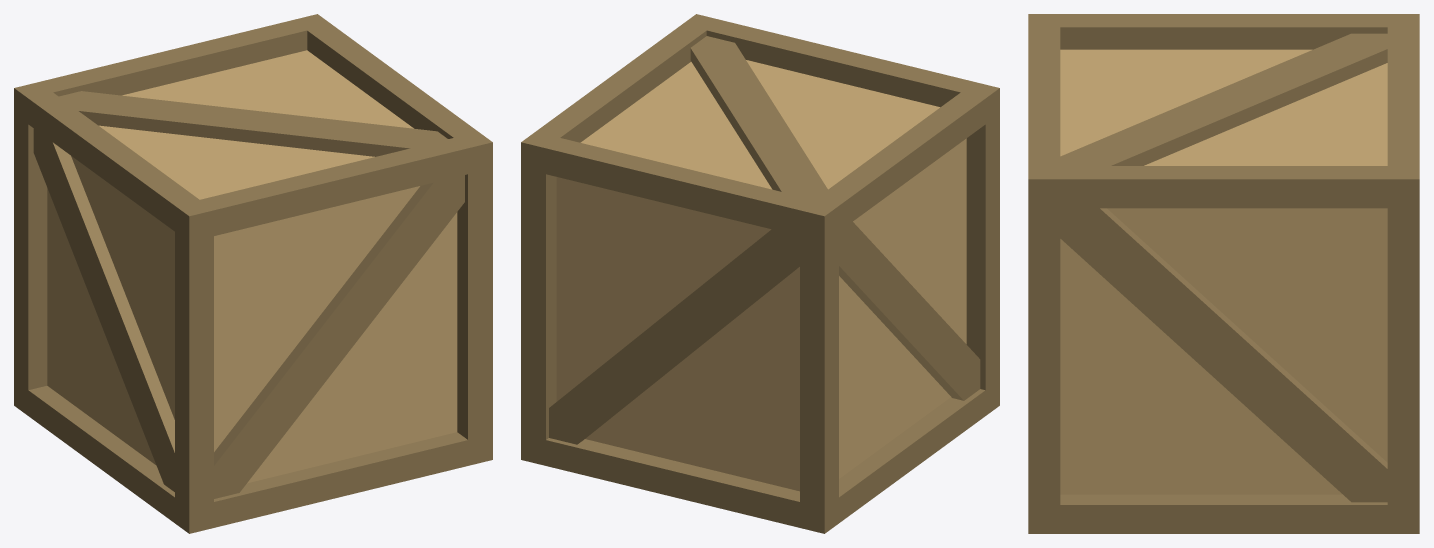
File: Сrate_1_2.fbx
3 views of the same model, side by side, from view 1: azimuth 30°, elevation 25°; view 2: azimuth 150°, elevation 25°; view 3: azimuth 270°, elevation 25° (orthographic). The views are drawn at different scales.
Visible parts, largest first — view 1: Сrate_1_2; view 2: Сrate_1_2; view 3: Сrate_1_2.
Part boxes in pixels (box(x1,y1,x2,y2)): Сrate_1_2: box(14, 14, 492, 533); Сrate_1_2: box(521, 14, 999, 533); Сrate_1_2: box(1028, 14, 1419, 533).
Size of the model in its own units: 27.56 by 27.56 by 27.56.
